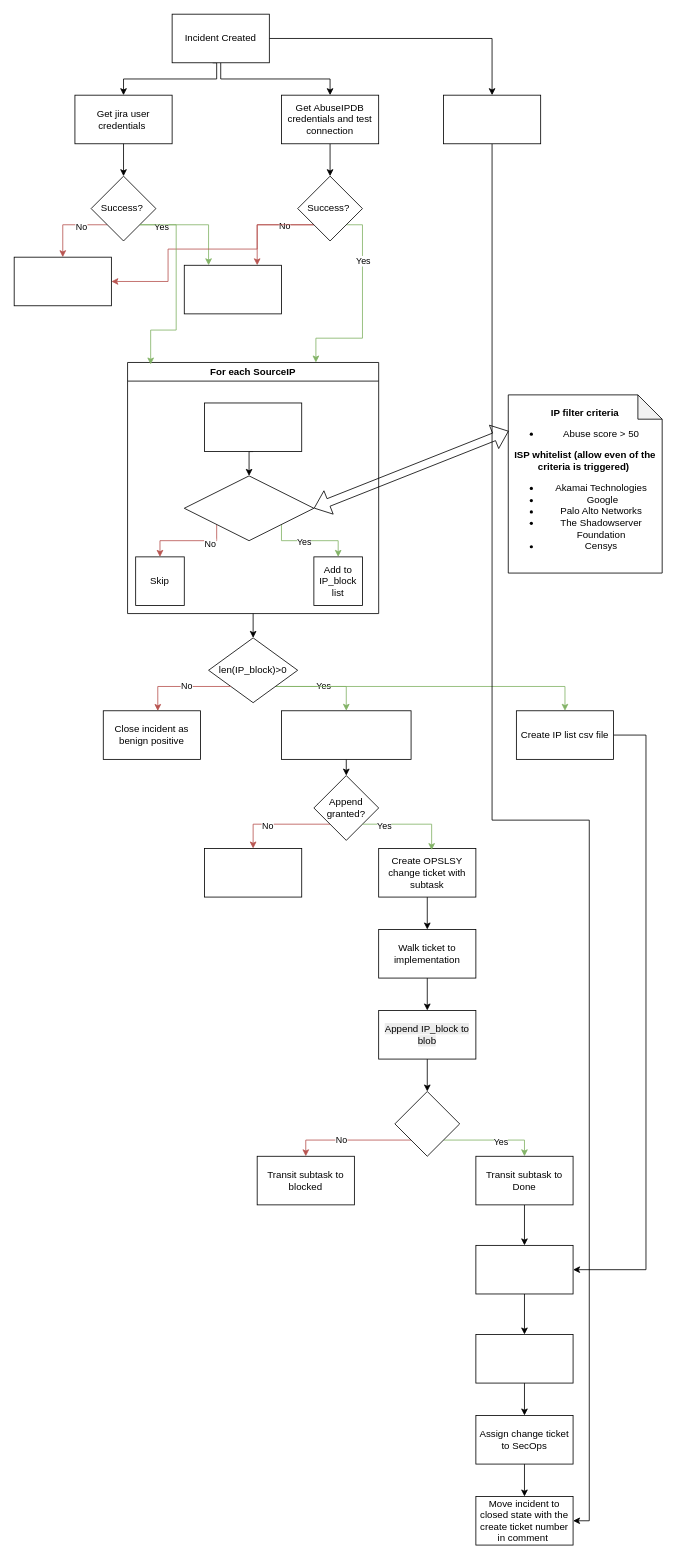
The diagram is 676 pixels wide and 1559 high, and some of its shapes have lost their labels. The centre of each missing label's shape, as x and y in pixels:
Add csv to main ticket: pixel 524 1269
Append succesfull?: pixel 427 1123
Check IP reputation via the API endpoint: pixel 253 427
Comment error in incident: pixel 62 281
Create CLOPSSEC ticket - include the issue: pixel 253 872
Create CLOPSSEC ticket without further automatic steps: pixel 232 289
IP reputation over the criterion: pixel 248 508
Move incident to in progress: pixel 492 119
Test append access to lsyweuritcsprdmspalo001: pixel 346 734
Transit main ticket to post implementation review: pixel 524 1358
